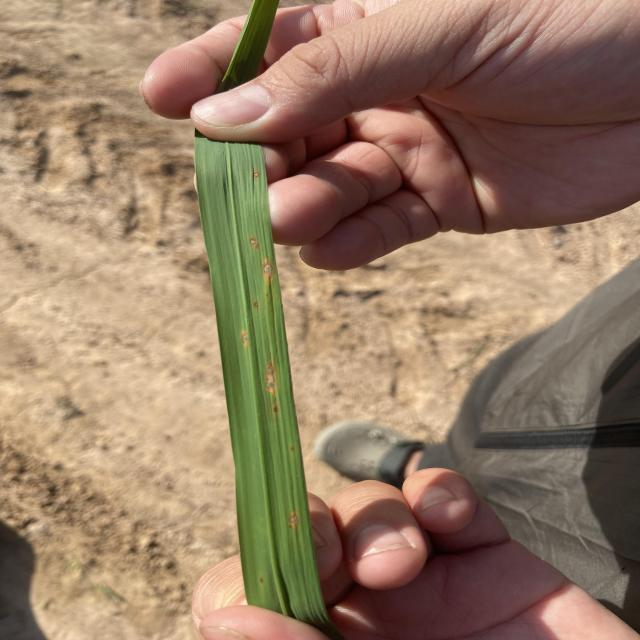Dao on: (266, 360, 276, 395), (263, 260, 273, 278), (289, 510, 299, 526), (251, 237, 260, 250), (242, 332, 248, 344), (274, 406, 278, 413), (254, 173, 259, 177), (255, 302, 259, 307)
